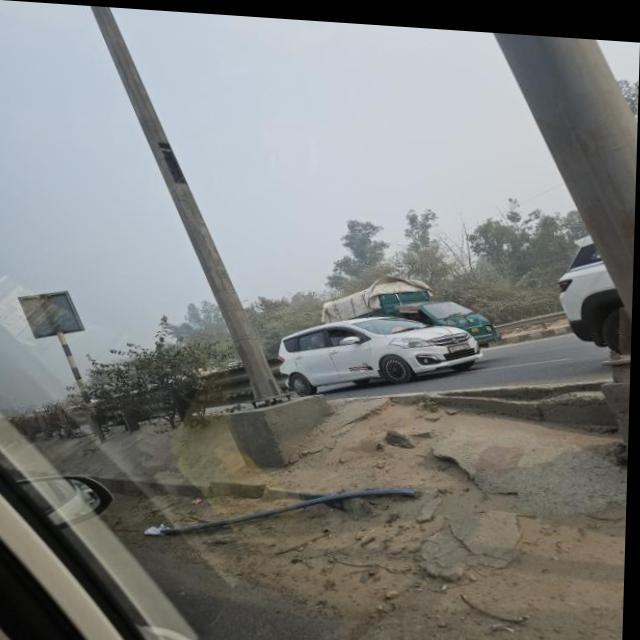covered: (312, 268, 508, 340)
